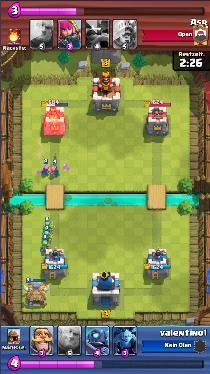ally_goblin_hut: (23, 282, 50, 309)
ally_spear_goblin: (43, 219, 54, 229), (42, 231, 52, 241), (40, 241, 49, 250)
enemy_archer: (50, 165, 60, 177), (40, 165, 49, 177)
